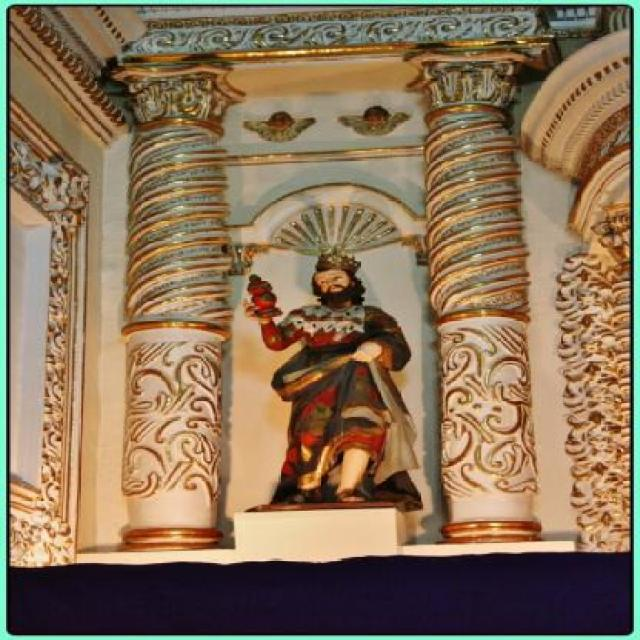Person: (241, 267, 413, 502)
